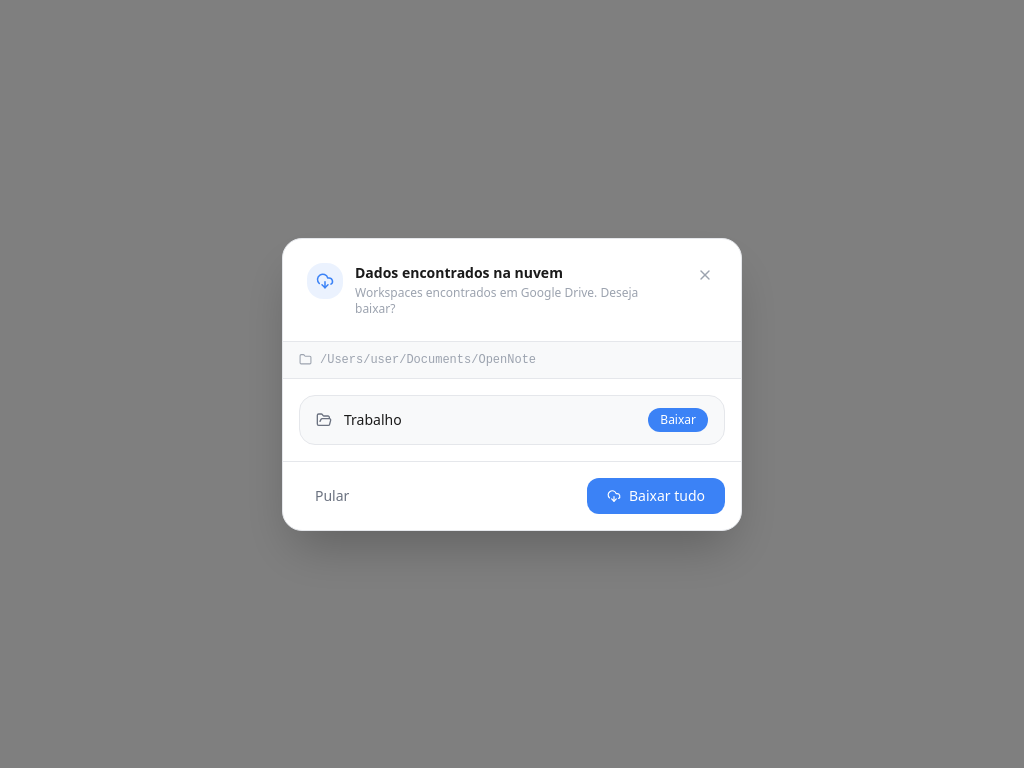
Scenario: CloudImportModal › does NOT auto-open workspace after download
This screenshot has width=1024, height=768.
Click the button "Baixar": (678, 420) [648,408,708,432]
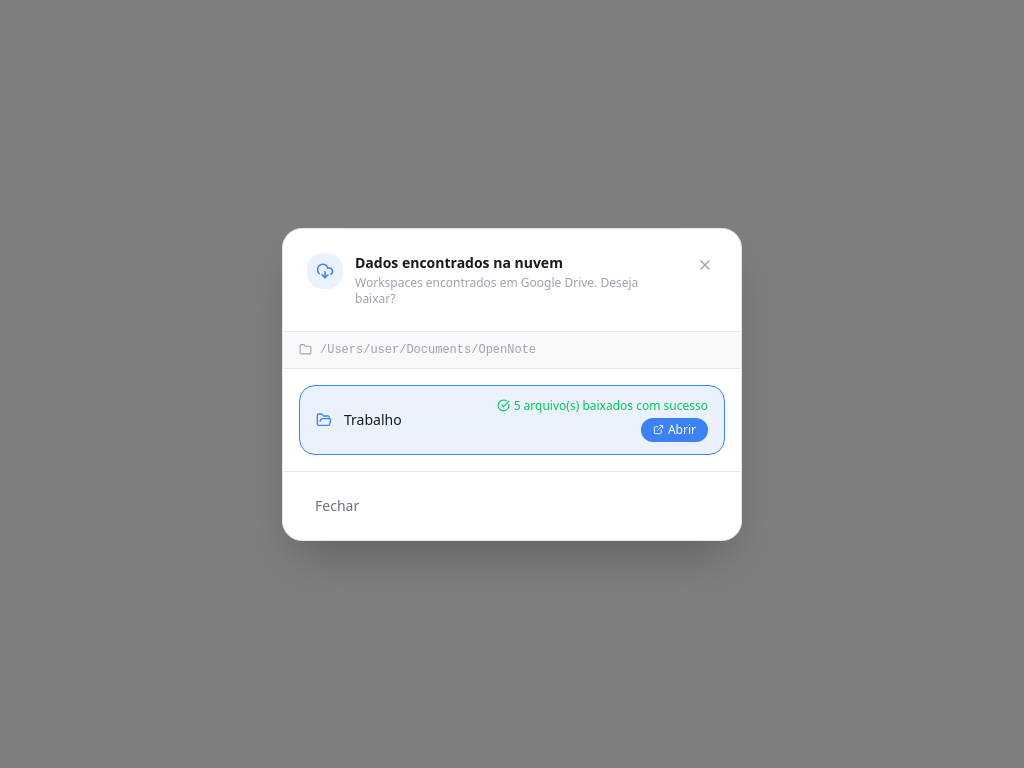
Check: the text "5 arquivo(s) baixados com sucesso" is shown, box [497,398,708,414]
